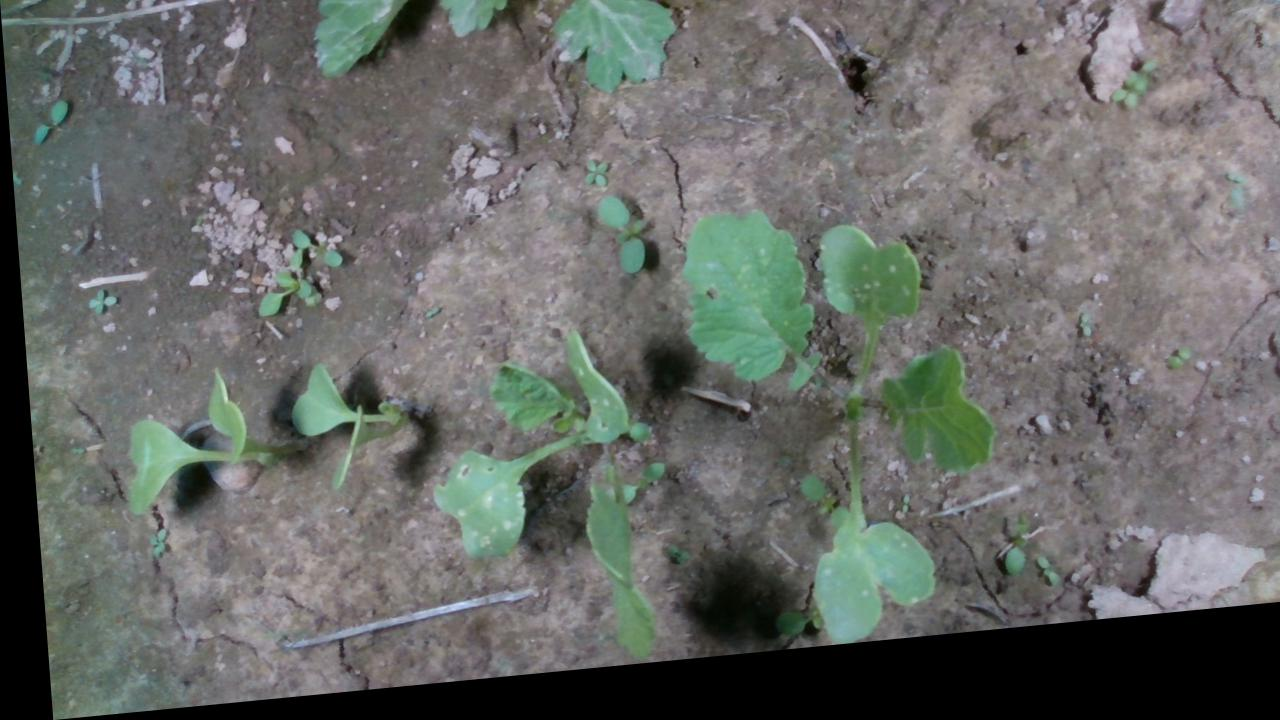weed: (590, 202, 642, 288), (27, 98, 69, 145), (1023, 571, 1051, 608), (80, 288, 113, 316), (578, 166, 605, 199), (136, 526, 160, 560), (1156, 366, 1185, 391), (1070, 330, 1086, 360)
